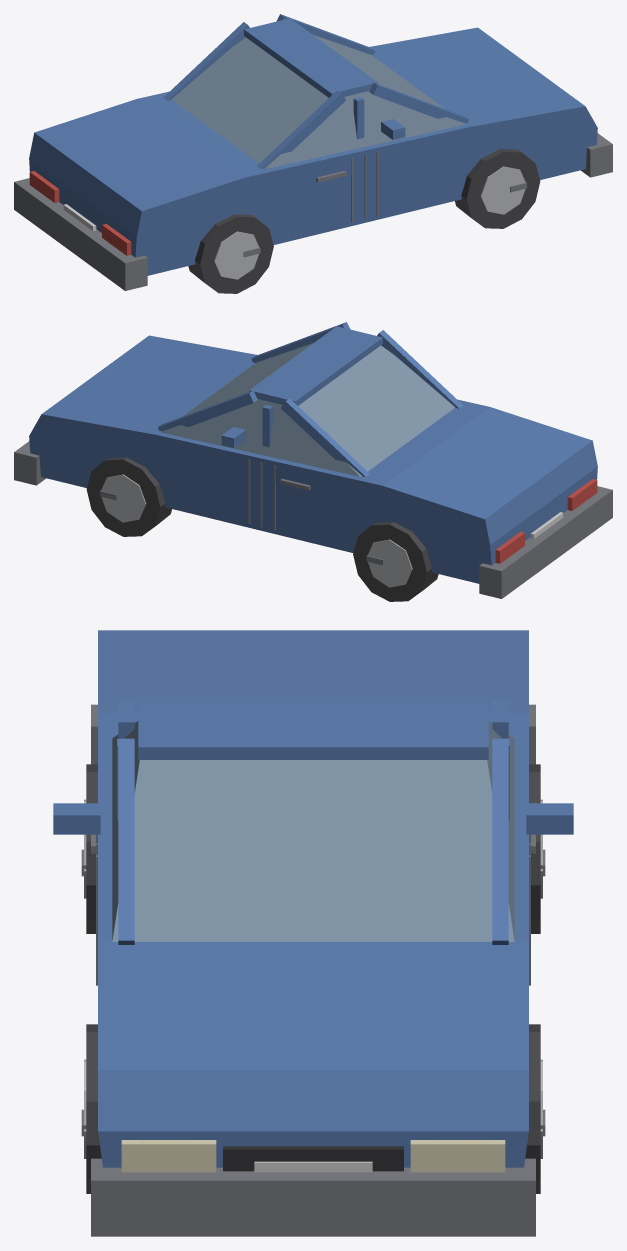
Rendered from Araba_Sedan_Mavi.glb.
The picture shows the model from 3 angles, top to bottom: view 1: azimuth 30°, elevation 25°; view 2: azimuth 150°, elevation 25°; view 3: azimuth 270°, elevation 25°; orthographic projection. The views are drawn at different scales.
Visible parts, largest first — view 1: Araba_Sedan_Mavi, Wheel_0.001, Wheel_2.001; view 2: Araba_Sedan_Mavi, Wheel_3.001, Wheel_1.001; view 3: Araba_Sedan_Mavi, Wheel_0.001, Wheel_1.001, Wheel_2.001, Wheel_3.001.
Part boxes in pixels (x1=…): Araba_Sedan_Mavi: x1=14, y1=14, x2=612, y2=290; Wheel_0.001: x1=455, y1=149, x2=540, y2=228; Wheel_2.001: x1=188, y1=214, x2=273, y2=293; Araba_Sedan_Mavi: x1=14, y1=322, x2=612, y2=598; Wheel_3.001: x1=353, y1=522, x2=438, y2=601; Wheel_1.001: x1=86, y1=457, x2=171, y2=536; Araba_Sedan_Mavi: x1=53, y1=630, x2=573, y2=1236; Wheel_0.001: x1=81, y1=1024, x2=101, y2=1193; Wheel_1.001: x1=525, y1=1024, x2=545, y2=1193; Wheel_2.001: x1=81, y1=764, x2=97, y2=933; Wheel_3.001: x1=529, y1=764, x2=545, y2=933.
Bounding box in the file's own units: 4.76 × 1.56 × 2.2.
